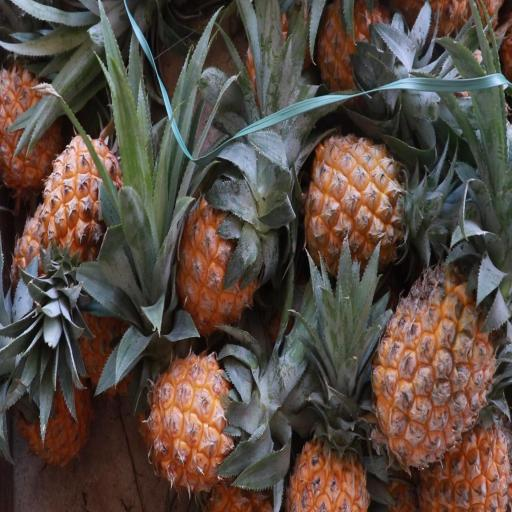Pineapple - v8 v1: (365, 238, 506, 478), (304, 126, 444, 292), (147, 343, 281, 498), (170, 179, 279, 351), (31, 128, 141, 294), (282, 366, 371, 512), (313, 0, 415, 126), (1, 54, 85, 205)
